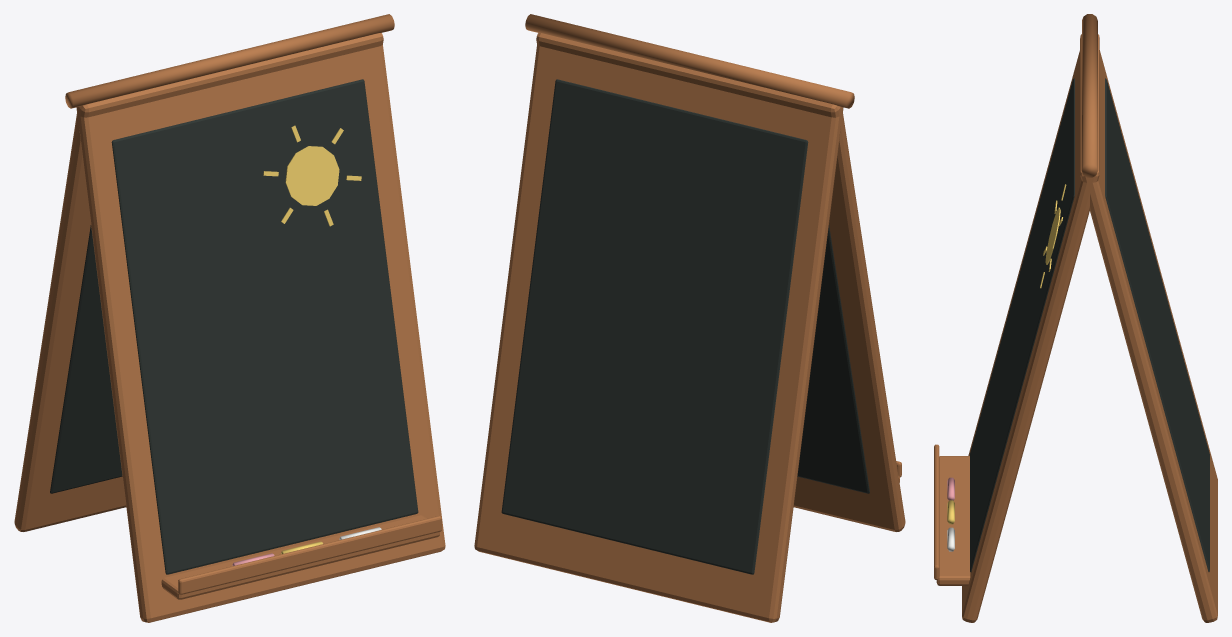
File: kidsChalkboard.glb
The picture shows the model from 3 angles, left to right: view 1: azimuth 30°, elevation 25°; view 2: azimuth 150°, elevation 25°; view 3: azimuth 270°, elevation 25°; orthographic projection. The views are drawn at different scales.
Parts seen in each view (by area): view 1: body; view 2: body; view 3: body.
Boxes of the visible parts, x1,y1,x2,y2 form: body: (14,14,445,622); body: (474,14,905,622); body: (934,14,1217,622).
Bounding box in the file's own units: 0.66 × 0.9562 × 0.5283.
